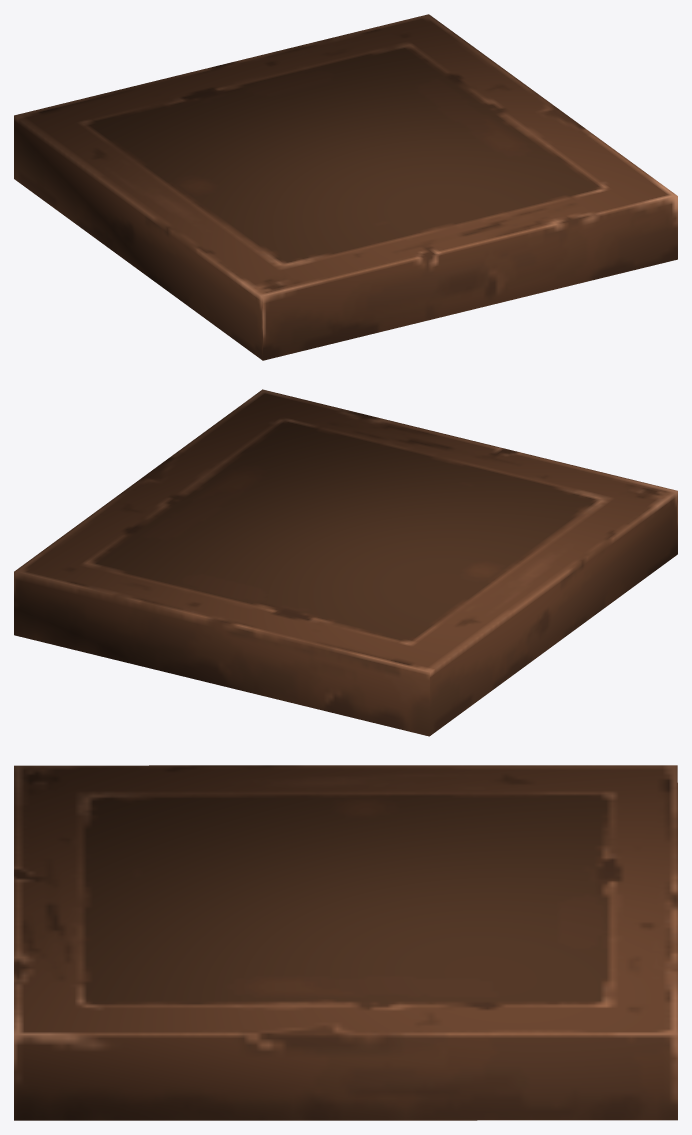
The model's file is sn_jiguan_tielong_002.FBX.
3 views of the same model, one above another, from view 1: azimuth 30°, elevation 25°; view 2: azimuth 150°, elevation 25°; view 3: azimuth 270°, elevation 25° (orthographic). The views are drawn at different scales.
Visible parts, largest first — view 1: sn_jiguan_tielong_002; view 2: sn_jiguan_tielong_002; view 3: sn_jiguan_tielong_002.
Part boxes in pixels (box(x1,y1,x2,y2)): sn_jiguan_tielong_002: box(14, 14, 677, 360); sn_jiguan_tielong_002: box(14, 389, 677, 736); sn_jiguan_tielong_002: box(14, 765, 677, 1120).
Size of the model in its own units: 313 by 45.69 by 325.
